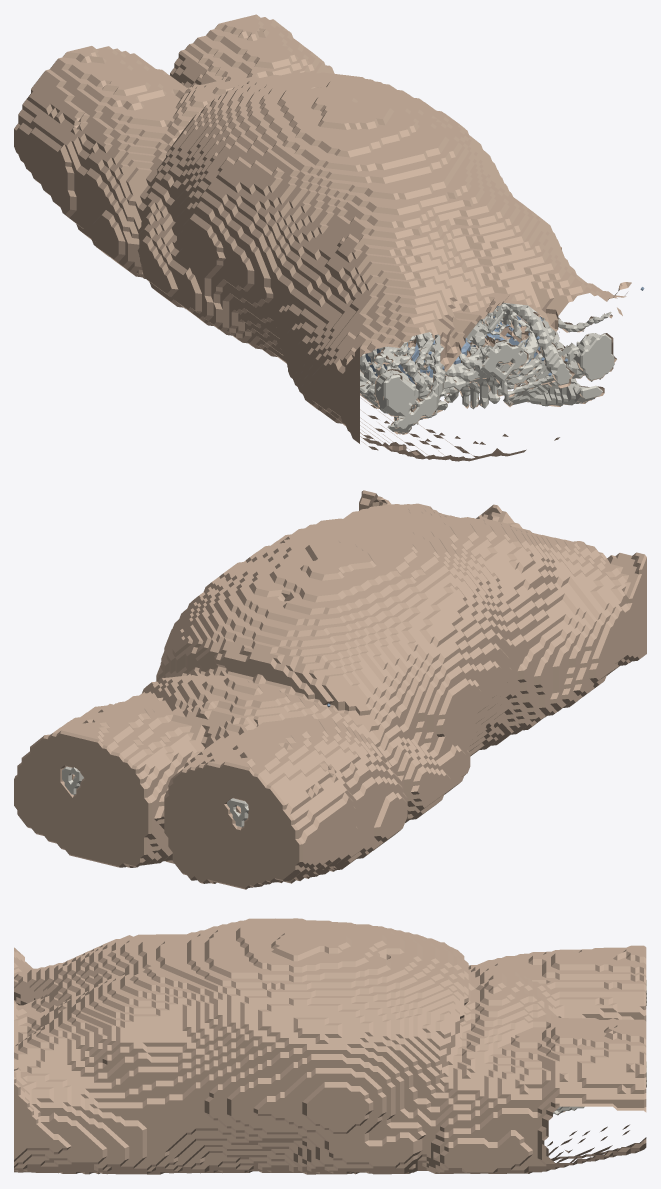
Rendered from chestabdopelvis.glb.
3 views of the same model, one above another, from view 1: azimuth 30°, elevation 25°; view 2: azimuth 150°, elevation 25°; view 3: azimuth 270°, elevation 25° (orthographic). The views are drawn at different scales.
Parts seen in each view (by area): view 1: world; view 2: world; view 3: world.
Boxes of the visible parts, x1=… form: world: x1=14, y1=14, x2=644, y2=461; world: x1=14, y1=490, x2=646, y2=889; world: x1=14, y1=918, x2=646, y2=1174.
Size of the model in its own units: 411 by 312 by 856.
